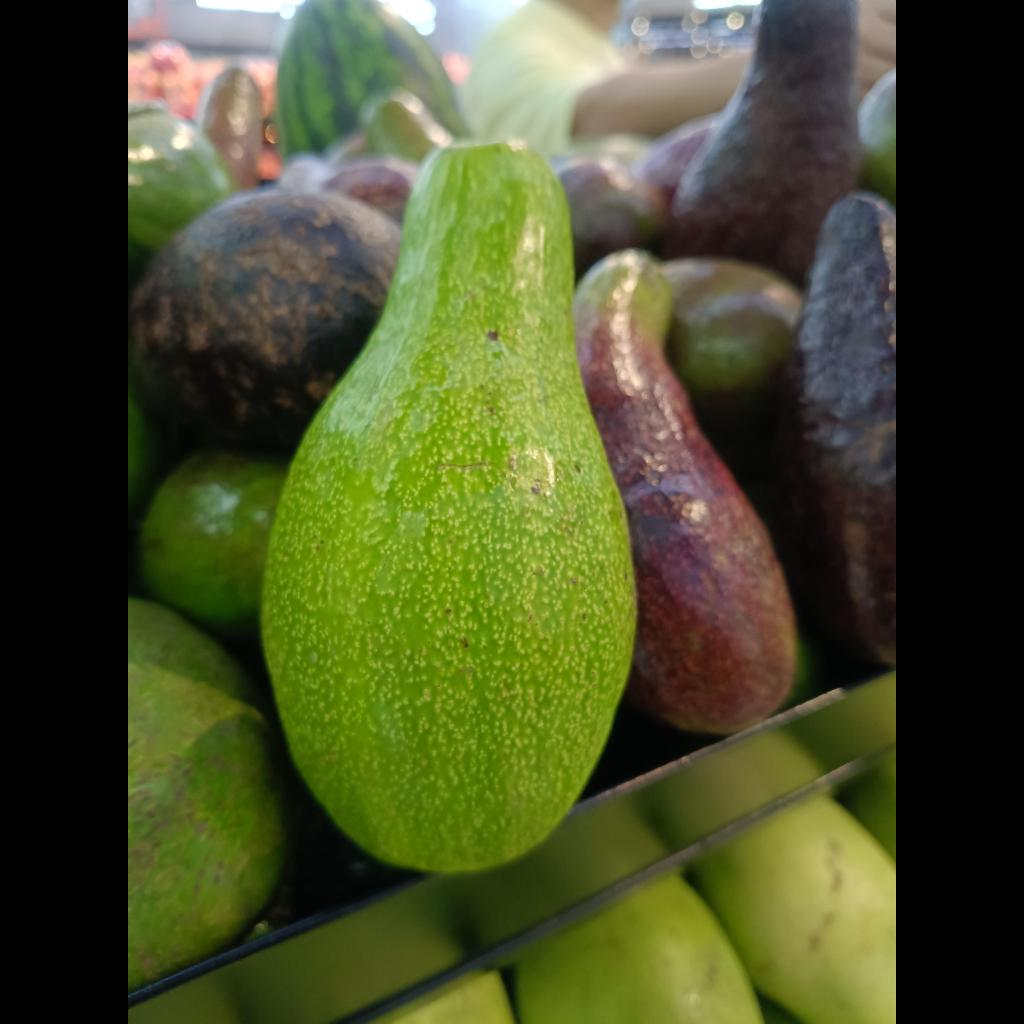fruto_sano: (262, 142, 636, 871)
